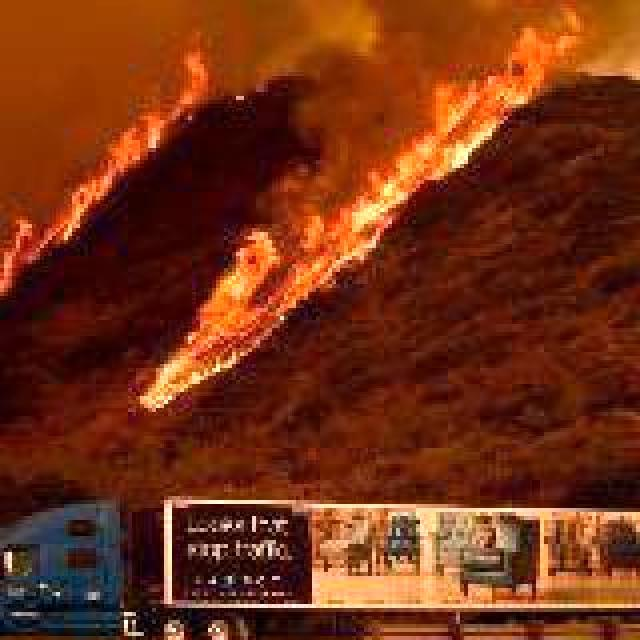fire: (0, 4, 592, 404)
